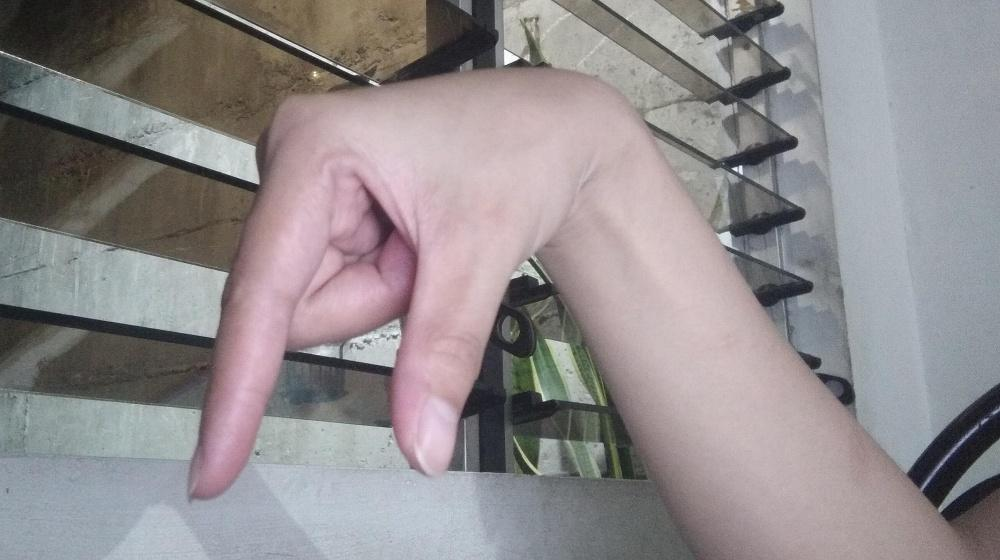q: (184, 64, 614, 507)
